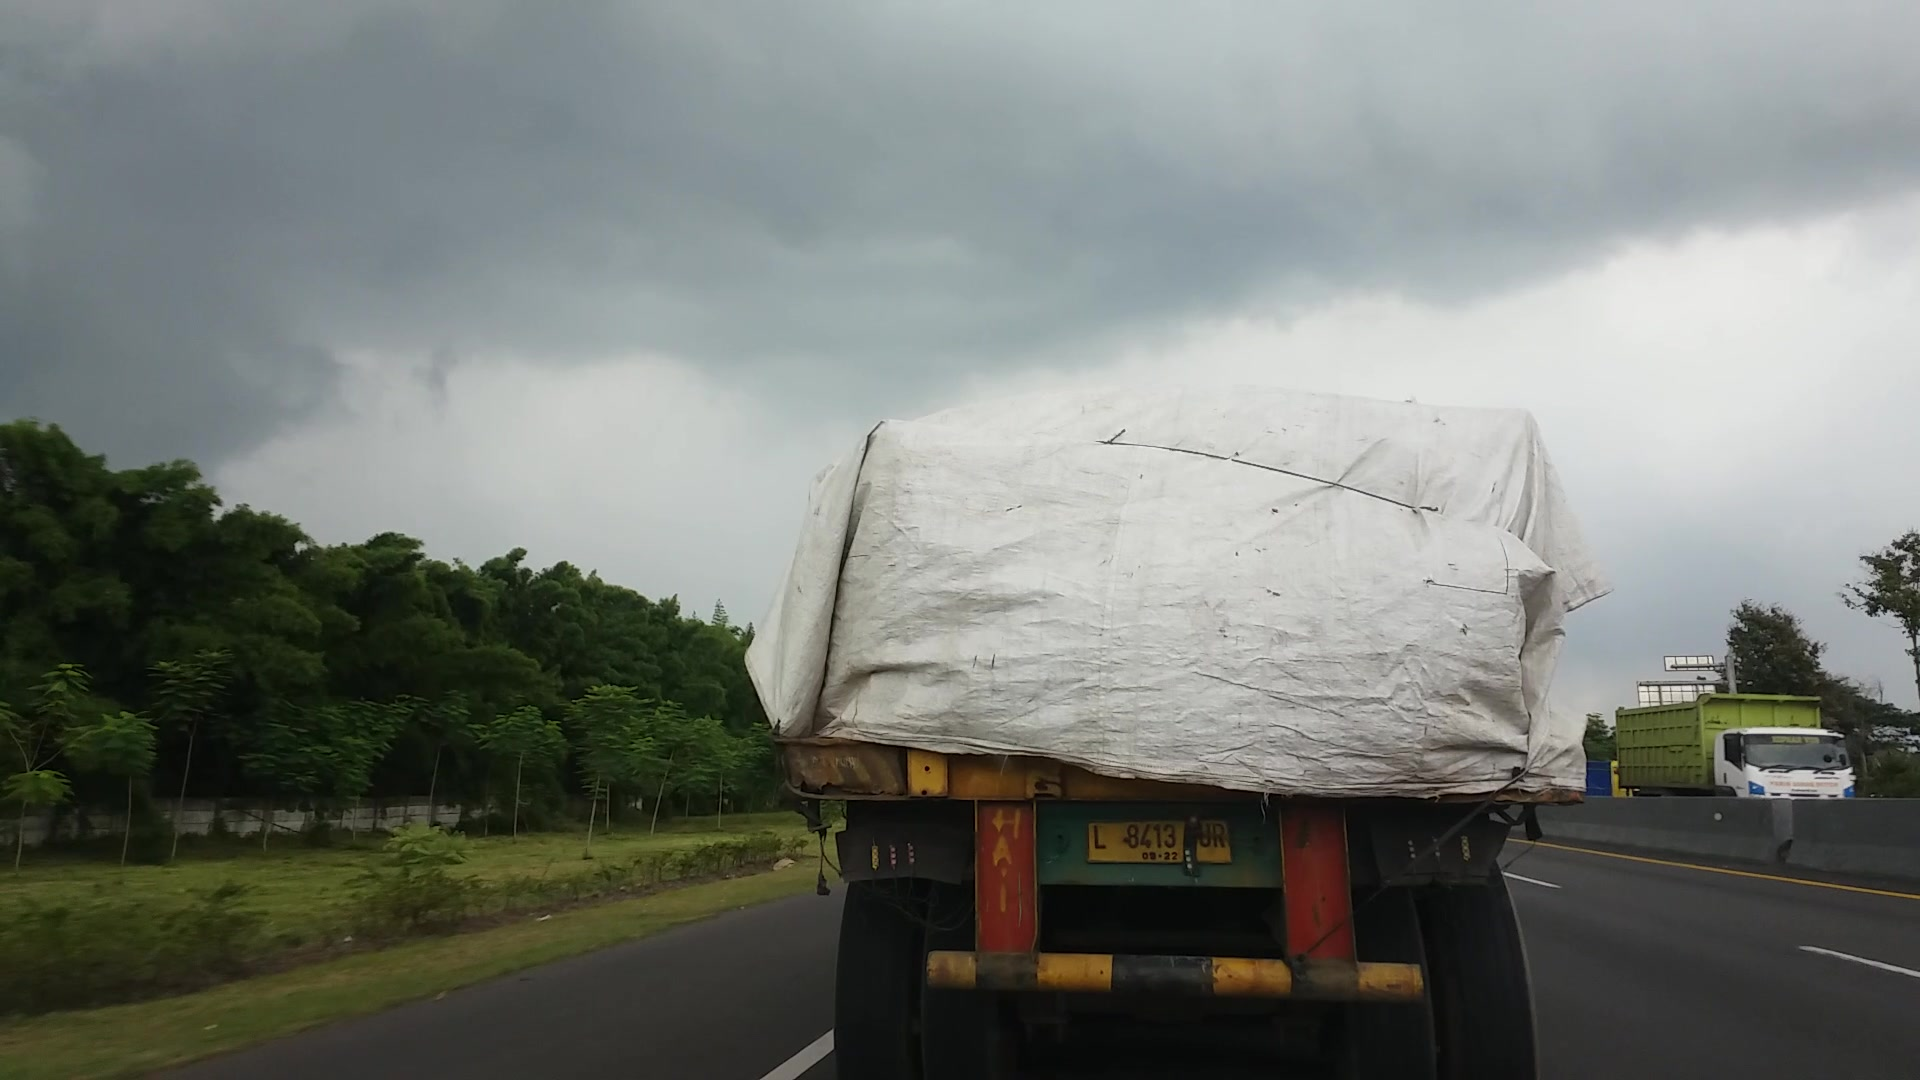plate_positive: (1087, 818, 1232, 864)
